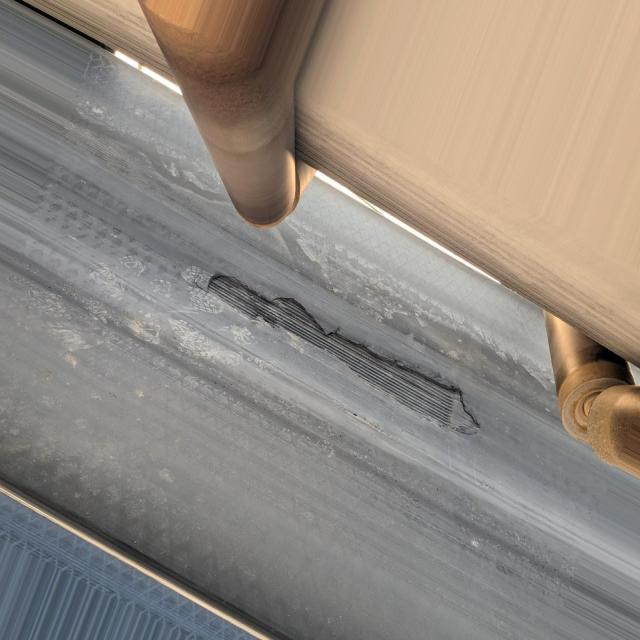Roller: (140, 0, 300, 220), (547, 315, 640, 474)
Tear: (197, 256, 483, 444)
